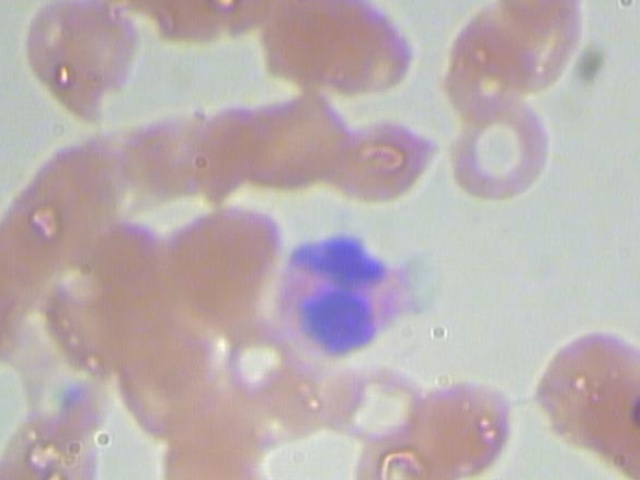RBC: (12, 0, 146, 128), (258, 0, 421, 100), (231, 85, 352, 201), (527, 326, 640, 450), (431, 0, 544, 119), (442, 98, 564, 201), (159, 198, 282, 300), (332, 109, 444, 209), (402, 373, 514, 473), (319, 356, 429, 443), (218, 315, 306, 406)
WBC: (271, 233, 422, 363)
